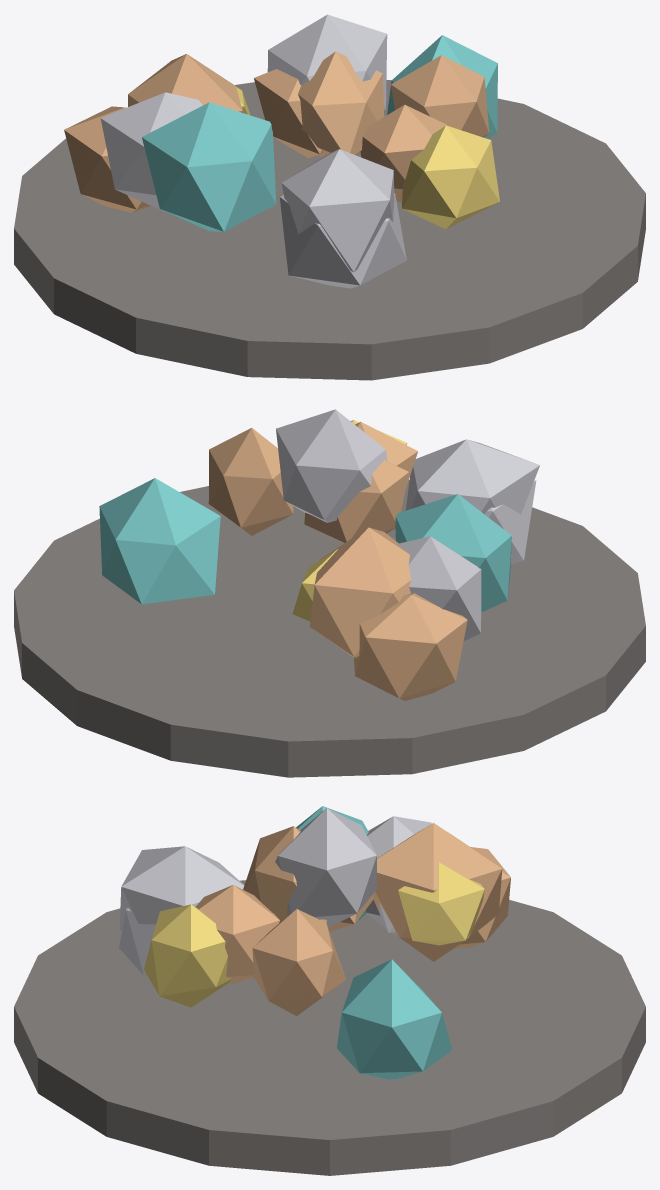
The model's file is ore_pile.glb.
3 views of the same model, one above another, from view 1: azimuth 30°, elevation 25°; view 2: azimuth 150°, elevation 25°; view 3: azimuth 270°, elevation 25° (orthographic).
Parts seen in each view (by area): view 1: PileBase, Chunk_11, Chunk_5, Chunk_12, Chunk_0, Chunk_14, Chunk_8, Chunk_1, Chunk_7, Chunk_13, Chunk_10, Chunk_15 (+2 smaller); view 2: PileBase, Chunk_6, Chunk_10, Chunk_8, Chunk_15, Chunk_5, Chunk_7, Chunk_11, Chunk_1, Chunk_9, Chunk_14, Chunk_0 (+1 smaller); view 3: PileBase, Chunk_6, Chunk_8, Chunk_15, Chunk_7, Chunk_12, Chunk_5, Chunk_2, Chunk_13, Chunk_0, Chunk_1, Chunk_14 (+1 smaller).
Boxes of the visible parts, x1,y1,x2,y2 form: PileBase: [14, 80, 645, 380]; Chunk_11: [142, 102, 276, 231]; Chunk_5: [281, 149, 394, 272]; Chunk_12: [402, 125, 499, 229]; Chunk_0: [298, 51, 384, 157]; Chunk_14: [279, 193, 406, 288]; Chunk_8: [267, 14, 387, 109]; Chunk_1: [100, 92, 202, 212]; Chunk_7: [391, 55, 489, 137]; Chunk_13: [360, 104, 446, 202]; Chunk_10: [64, 106, 151, 212]; Chunk_15: [128, 54, 242, 112]; PileBase: [14, 480, 645, 777]; Chunk_6: [99, 478, 220, 604]; Chunk_10: [354, 593, 467, 700]; Chunk_8: [276, 409, 395, 522]; Chunk_15: [310, 527, 410, 658]; Chunk_5: [405, 439, 539, 514]; Chunk_7: [208, 428, 293, 535]; Chunk_11: [395, 494, 511, 612]; Chunk_1: [397, 536, 481, 640]; Chunk_9: [304, 460, 408, 543]; Chunk_14: [484, 480, 536, 563]; Chunk_0: [355, 422, 417, 488]; PileBase: [14, 880, 645, 1175]; Chunk_6: [337, 959, 452, 1079]; Chunk_8: [275, 808, 376, 927]; Chunk_15: [373, 823, 502, 961]; Chunk_7: [252, 909, 345, 1015]; Chunk_12: [144, 904, 231, 1007]; Chunk_5: [119, 846, 244, 932]; Chunk_2: [398, 862, 484, 945]; Chunk_13: [195, 885, 279, 983]; Chunk_0: [243, 826, 328, 924]; Chunk_1: [366, 816, 431, 934]; Chunk_14: [119, 907, 155, 976].
Size of the model in its own units: 4.8 by 1.95 by 4.8.
